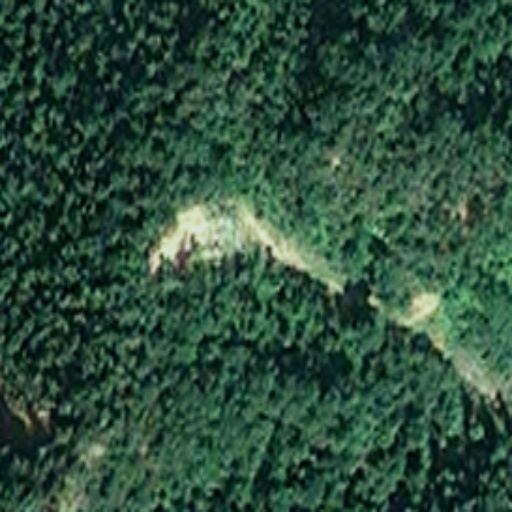landslide: (139, 191, 299, 269)
